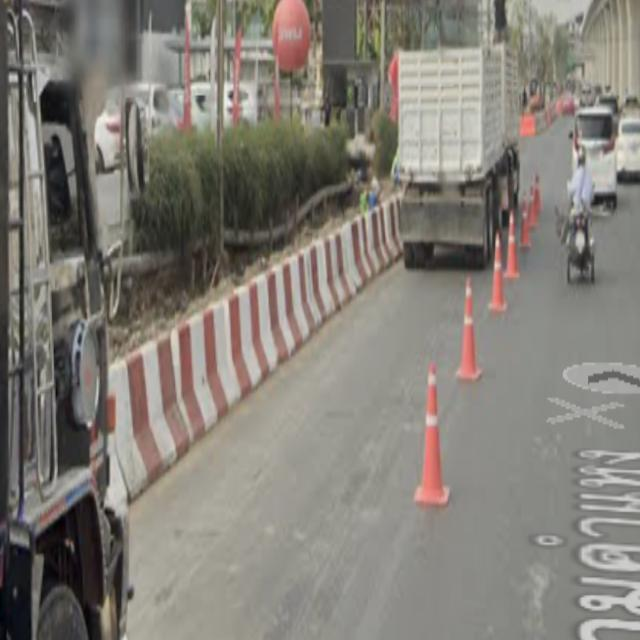fallen_object: (66, 343, 204, 470), (156, 282, 270, 417), (289, 193, 412, 292), (242, 245, 336, 340), (450, 270, 490, 401), (420, 353, 450, 516), (507, 177, 544, 287), (483, 203, 513, 321), (517, 102, 571, 143)
